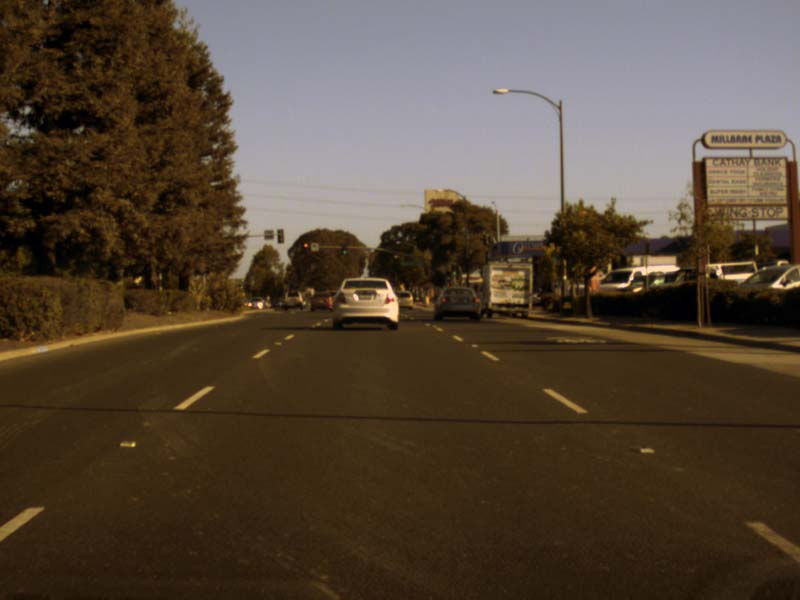Green: (452, 264, 456, 276), (342, 244, 346, 255), (446, 271, 450, 281)
Red: (302, 241, 308, 253)
